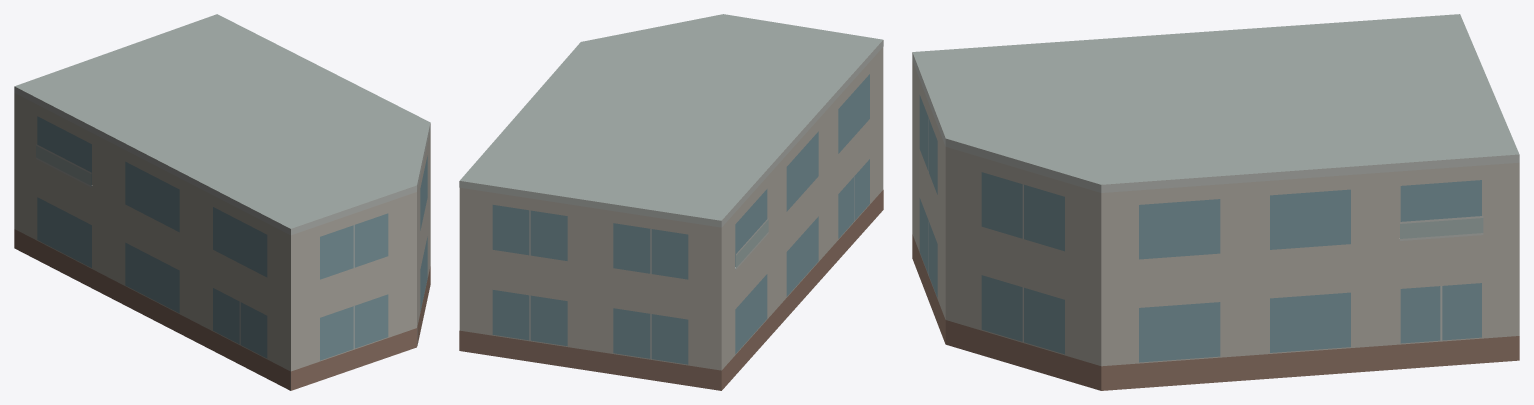
Rendered from survey-upis-32715401.glb.
3 renders of one model, left to right at view 1: azimuth 30°, elevation 25°; view 2: azimuth 150°, elevation 25°; view 3: azimuth 270°, elevation 25°, orthographic. The views are drawn at different scales.
Visible parts, largest first — view 1: survey-upis-32715401.tmp; view 2: survey-upis-32715401.tmp; view 3: survey-upis-32715401.tmp.
Boxes of the visible parts, x1,y1,x2,y2 form: survey-upis-32715401.tmp: (14,14,430,390); survey-upis-32715401.tmp: (459,14,883,390); survey-upis-32715401.tmp: (912,14,1519,390).
Size of the model in its own units: 10.85 by 6.1 by 16.3.
